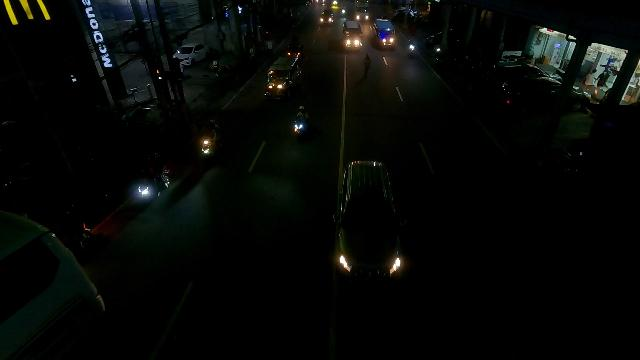jeepney: (264, 52, 301, 99), (373, 18, 397, 50), (341, 20, 363, 51)
